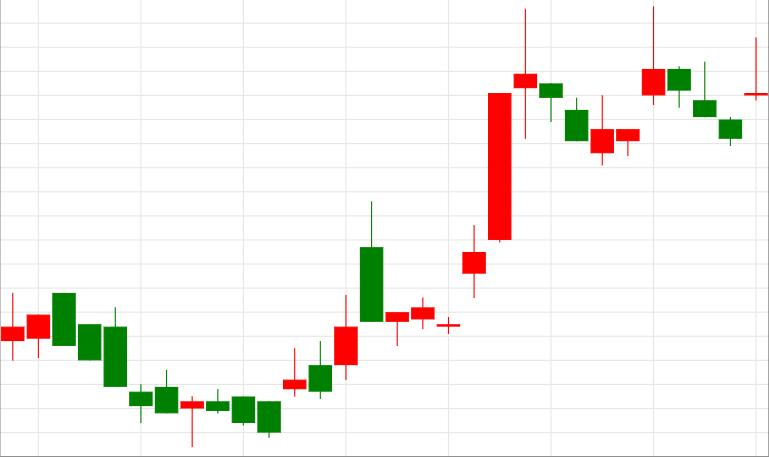evening_star_fall: (386, 8, 562, 348)
